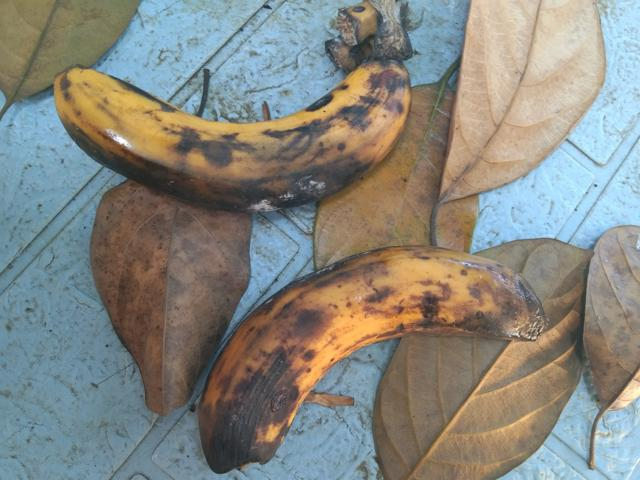overripe: (190, 239, 585, 479), (43, 37, 426, 207)
